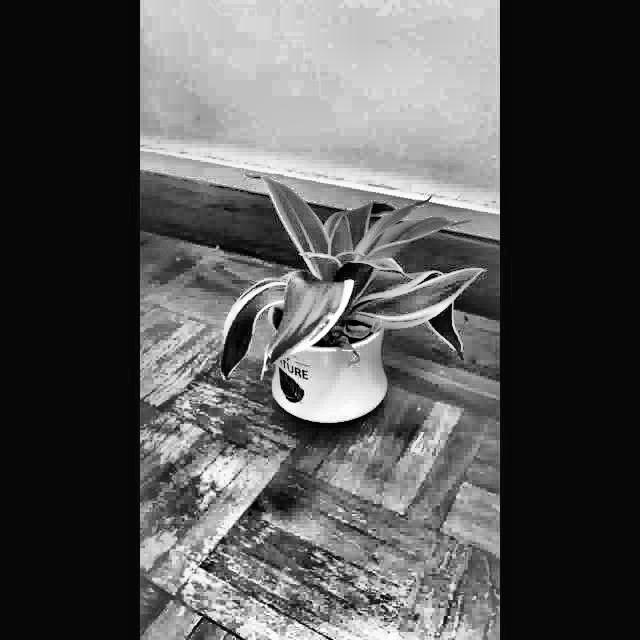plants: (210, 160, 488, 434)
